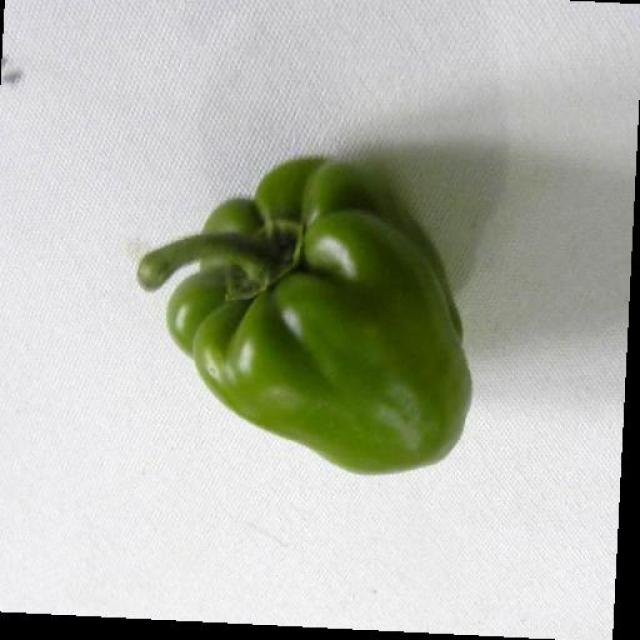Fresh_Capsicum: (180, 170, 472, 477)
